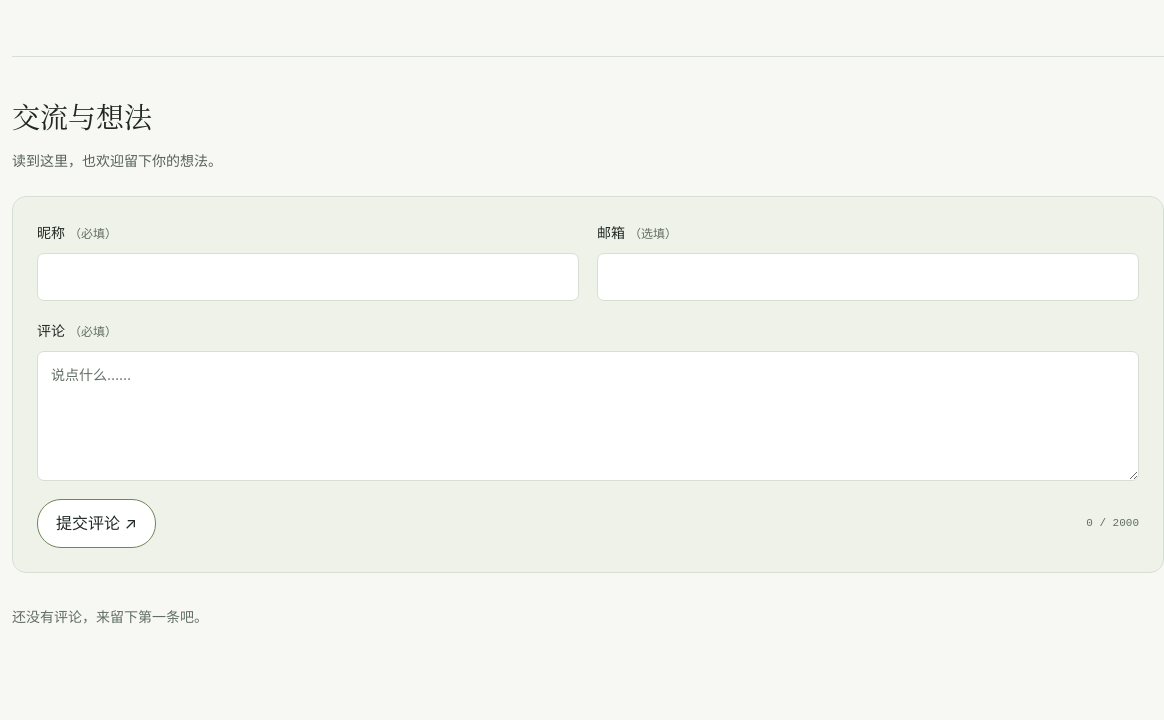
Test case: Comments › preserves the draft on submission failure and announces success on retry
Check: the text "还没有评论，来留下第一条吧。" is shown, box x1=12 y1=608 x2=208 y2=625
Type "读者" into the field labelled "昵称 （必填）" at coordinates (308, 277), box x1=37 y1=253 x2=579 y2=301
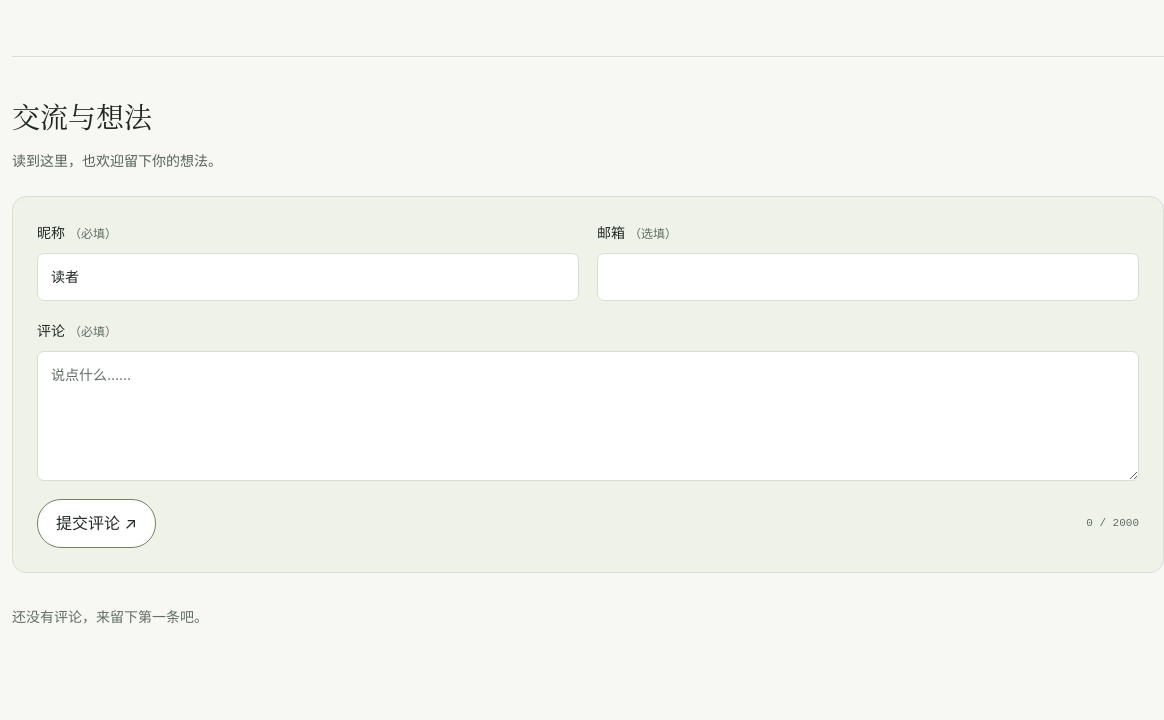
Type "我的想法" into the text box labelled "评论 （必填）" at coordinates (588, 416), box x1=37 y1=351 x2=1139 y2=481
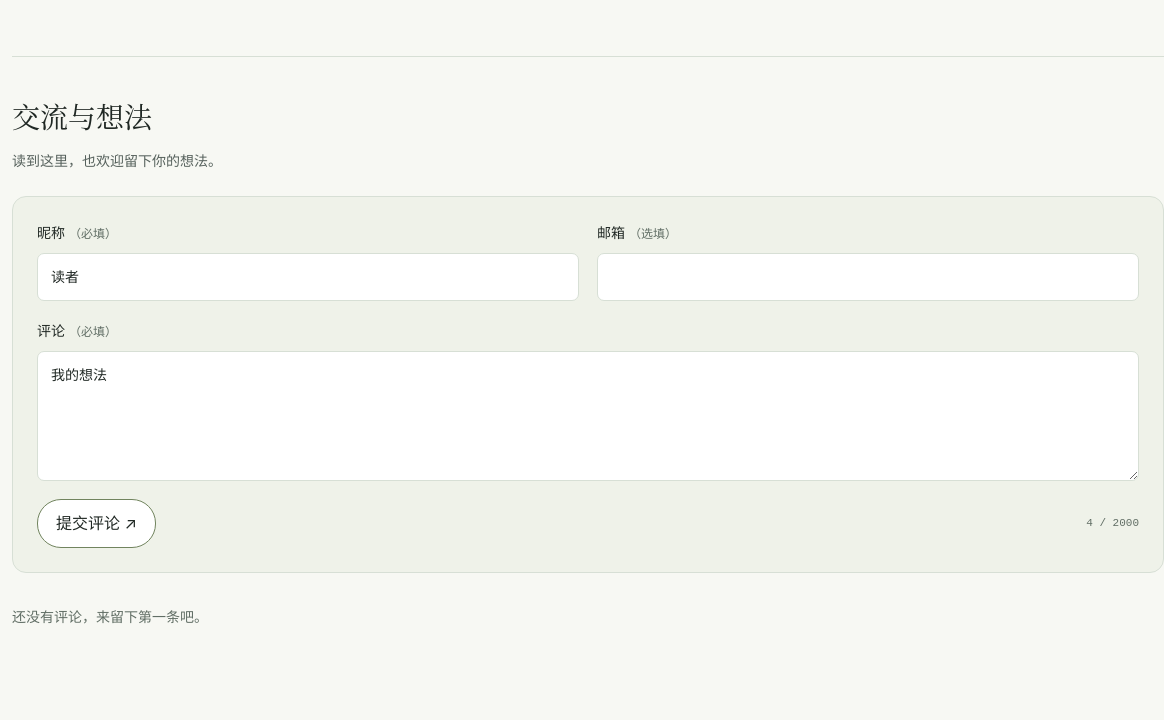
Click the button "提交评论 ↗" at coordinates (96, 523), box x1=37 y1=499 x2=156 y2=548
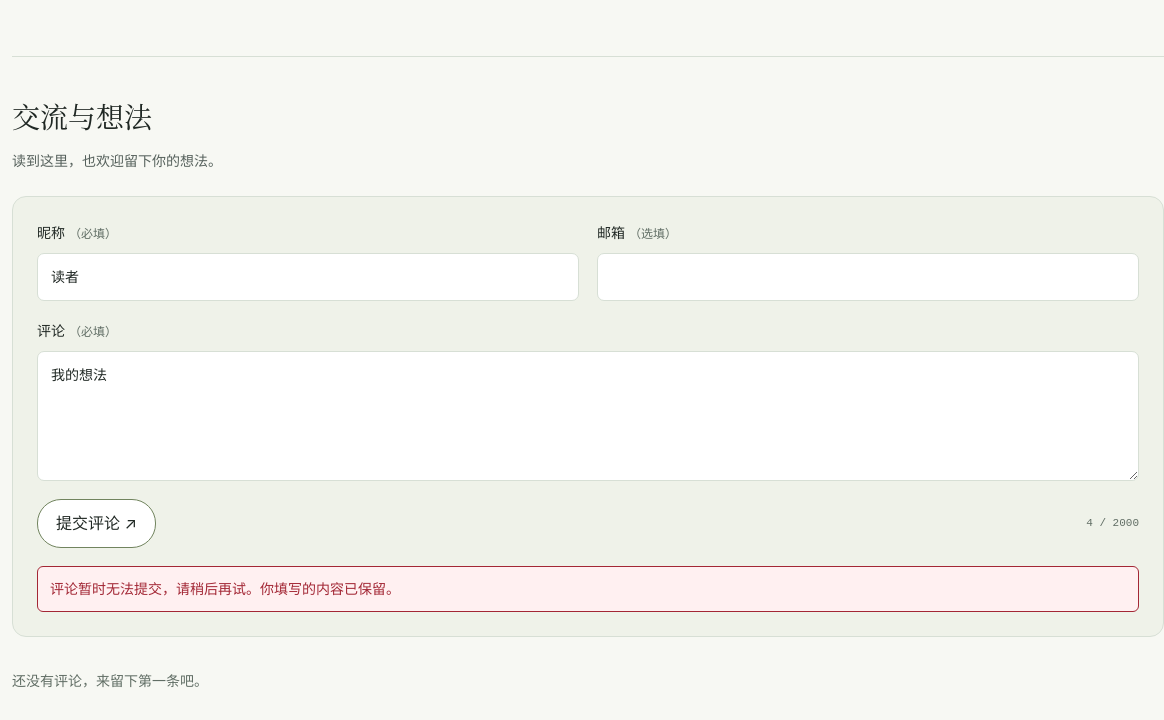
Check: the message shows "你填写的内容已保留", box x1=50 y1=580 x2=400 y2=597
Click the button "提交评论 ↗" at coordinates (96, 523), box x1=37 y1=499 x2=156 y2=548
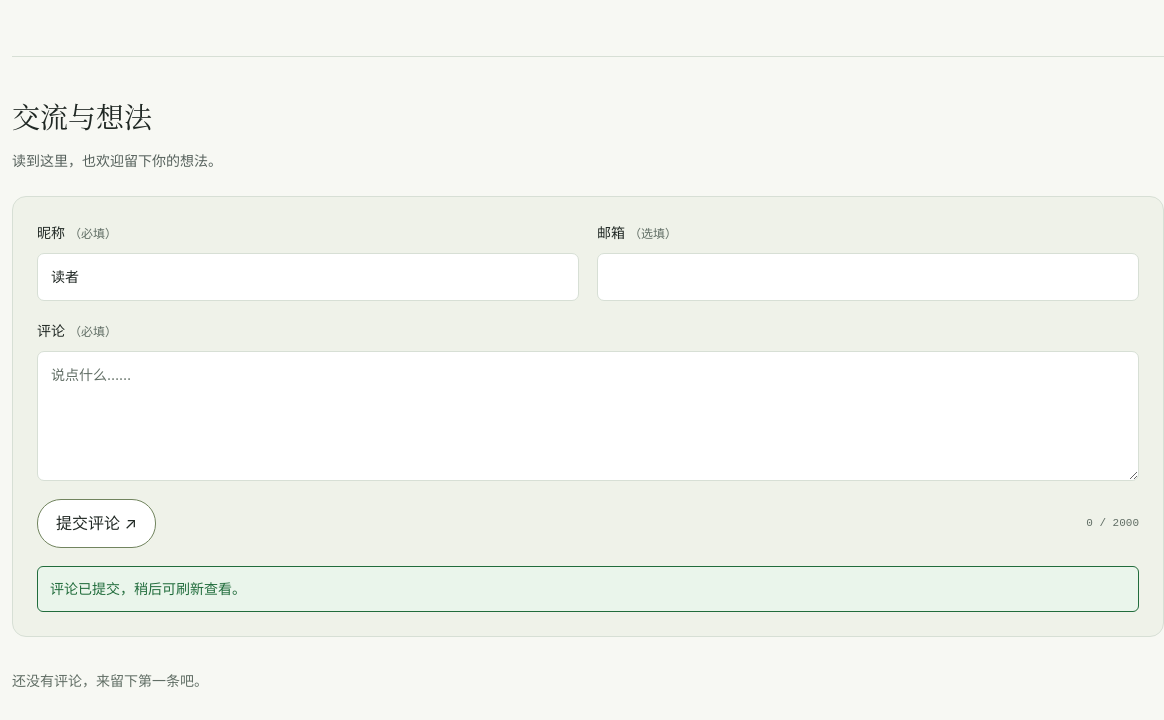
Check: the message reads "评论已提交，稍后可刷新查看。", box x1=50 y1=580 x2=246 y2=597
Check: the text box labelled "评论 （必填）" is empty, box x1=37 y1=351 x2=1139 y2=481
